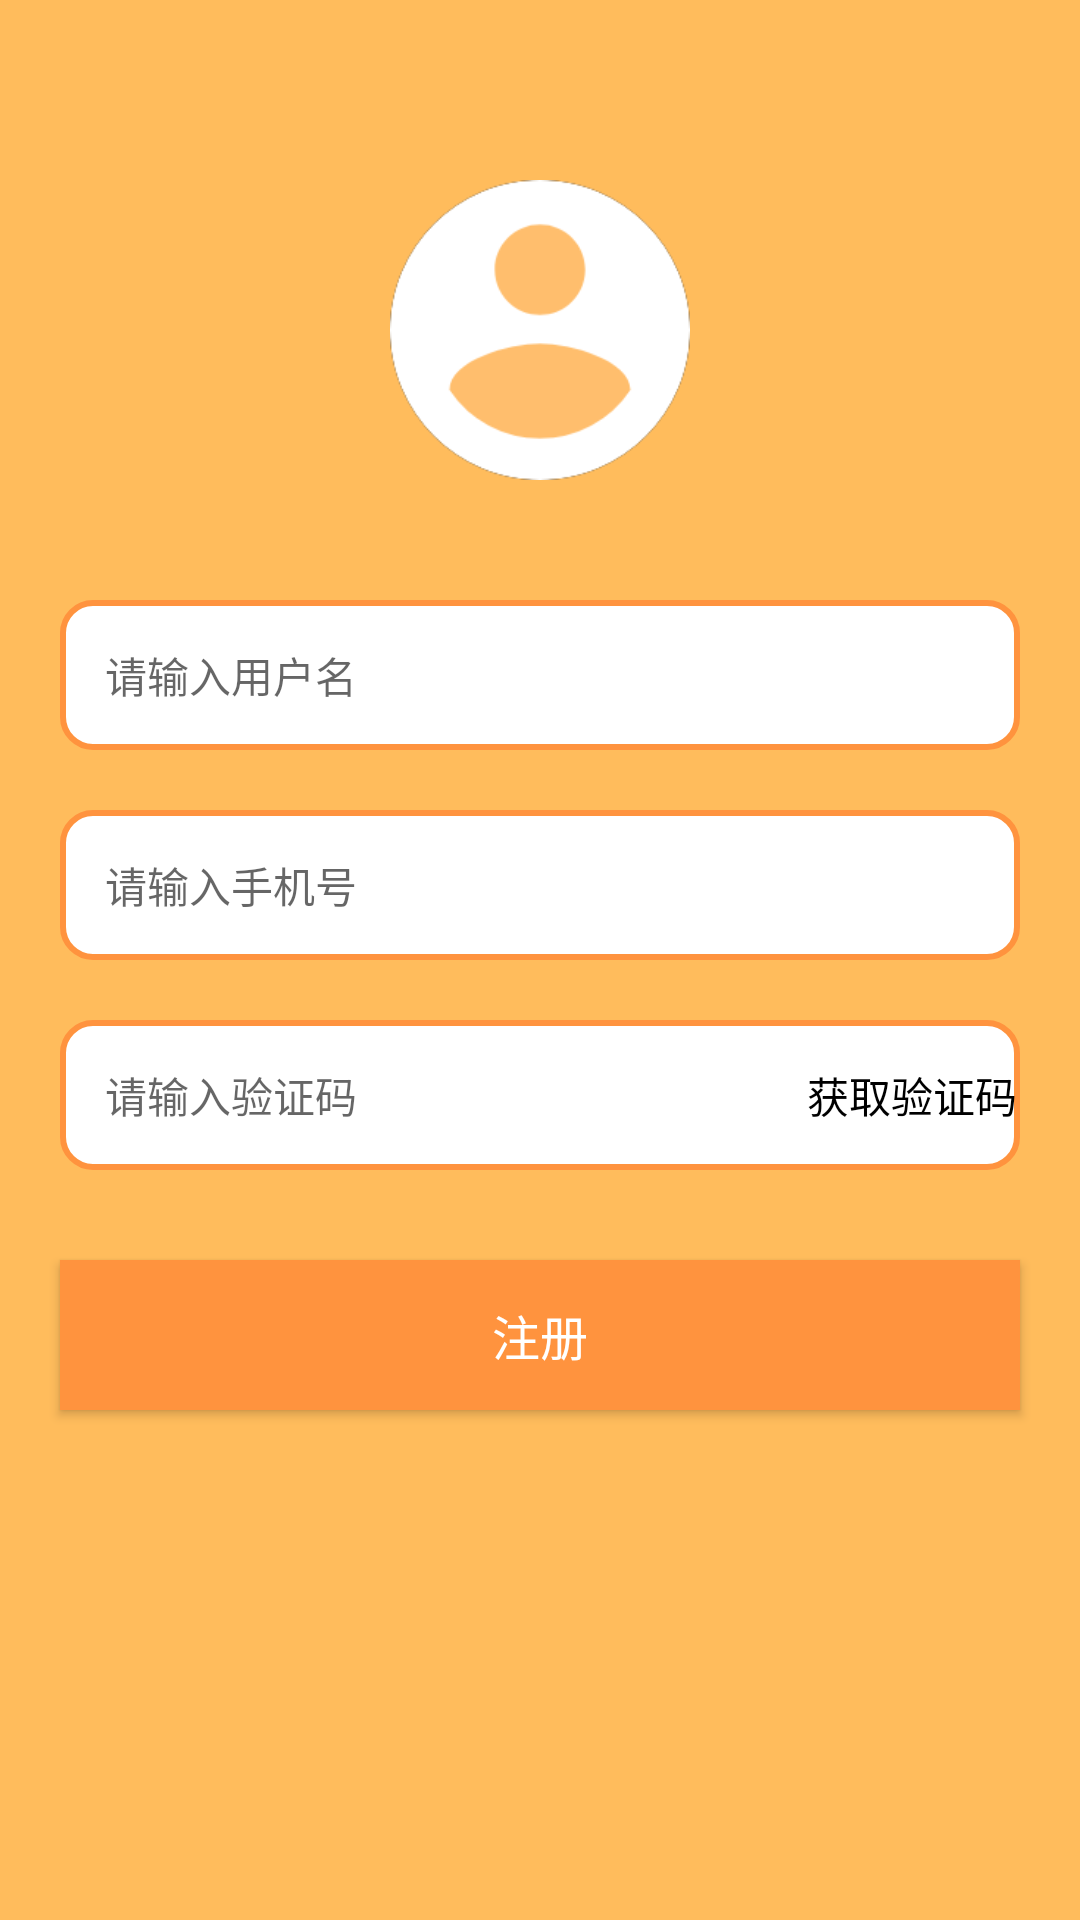

Named icons in this screenshot (1080px×1920px) and their bounding boxes, [x1=x1, y1=y1, x2=x2, y2=y2]:
user: [x1=390, y1=180, x2=690, y2=480]
